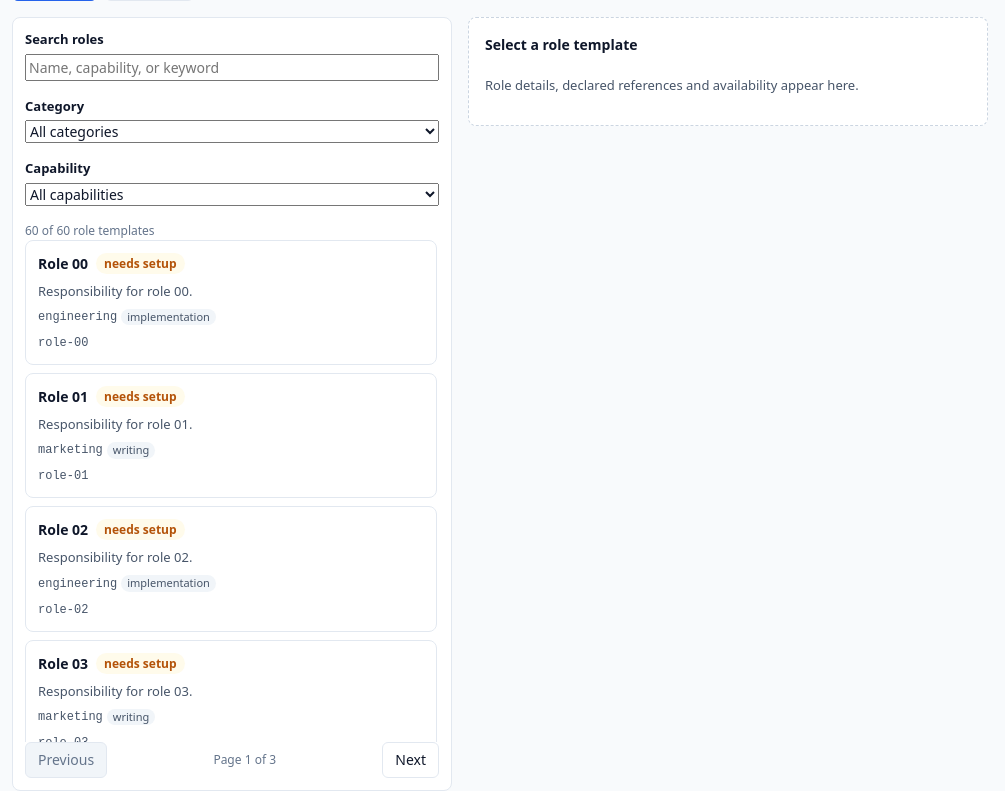
Test: LG-120 complete Available role library › paginates the complete catalog instead of truncating it
The width and height of the screenshot is (1005, 791).
(page scrolled)
expect the text "60 of 60 role templates" is shown: met, box [25,222,155,238]
expect the button "Role 00" is shown: met, box [25,240,437,365]
Click the button "Next": [411, 760] box [382,742,439,778]
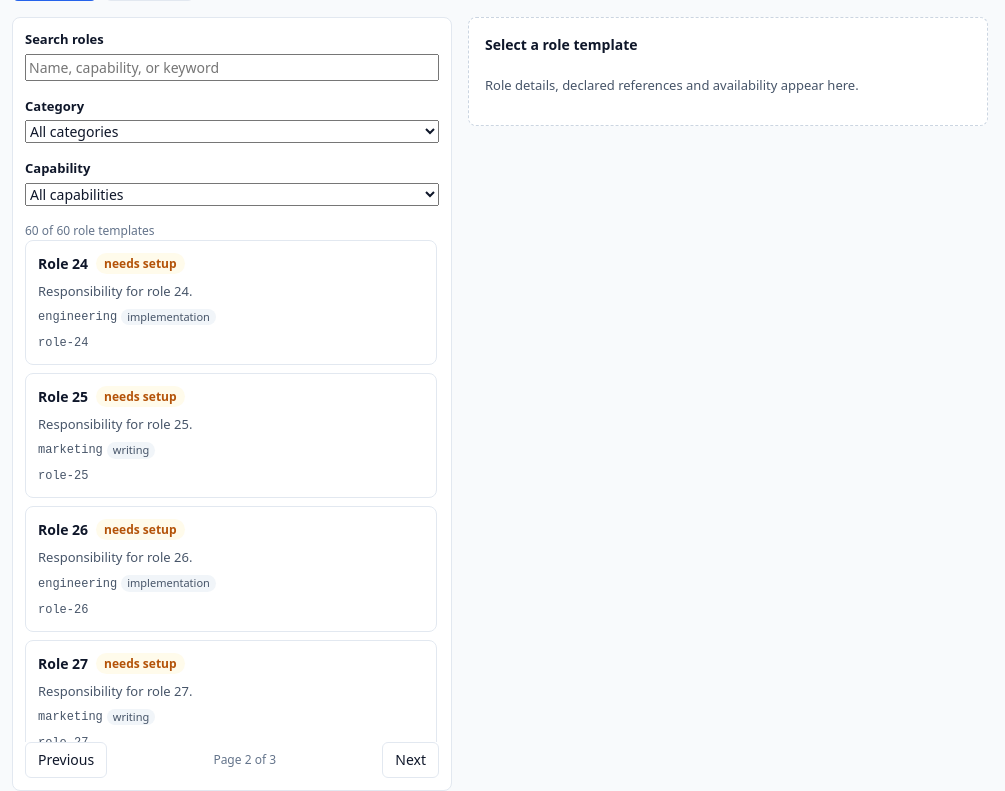
expect the text "Page 2 of 3" is shown: met, box [213,751,276,769]
expect the button "Role 24" is shown: met, box [25,240,437,365]
expect the button "Role 00" is gone: met
